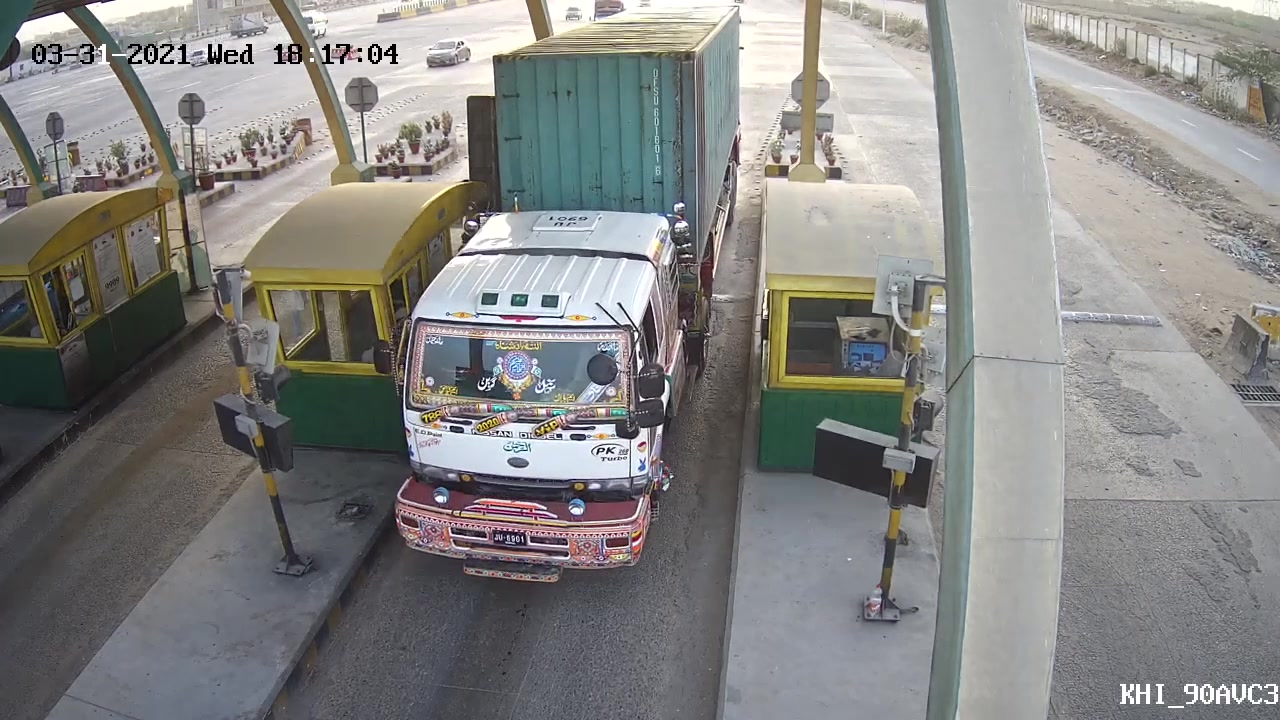F6: (370, 22, 748, 589)
